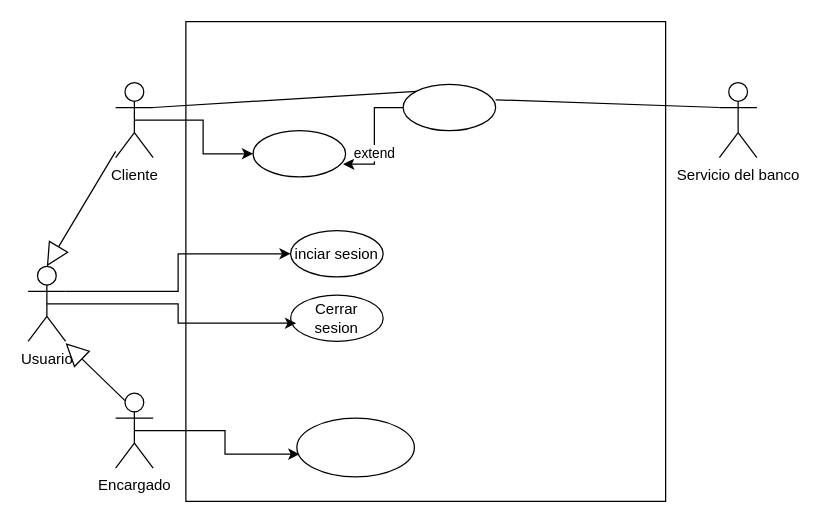
Some shapes in this 821 by 524 pixel diagram are drawn without their labels. Here are the shapes that lost their labels. From the top down, the centre of each, then its label:
At (449,107): "Pagar con tarjeta".
At (299,153): "Realizar reserva".
At (355,447): "Dar de alta mobiliarios".
